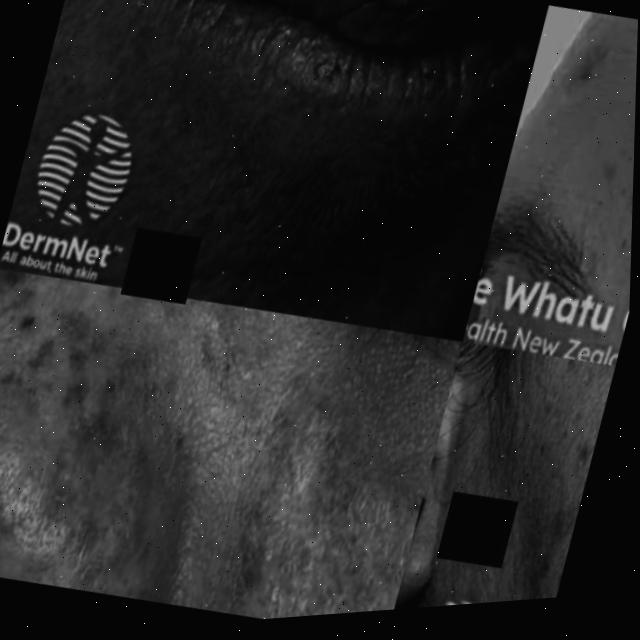lupus-detected: (0, 251, 205, 608), (173, 362, 445, 626), (262, 6, 420, 150), (331, 0, 487, 50), (462, 28, 539, 115)
